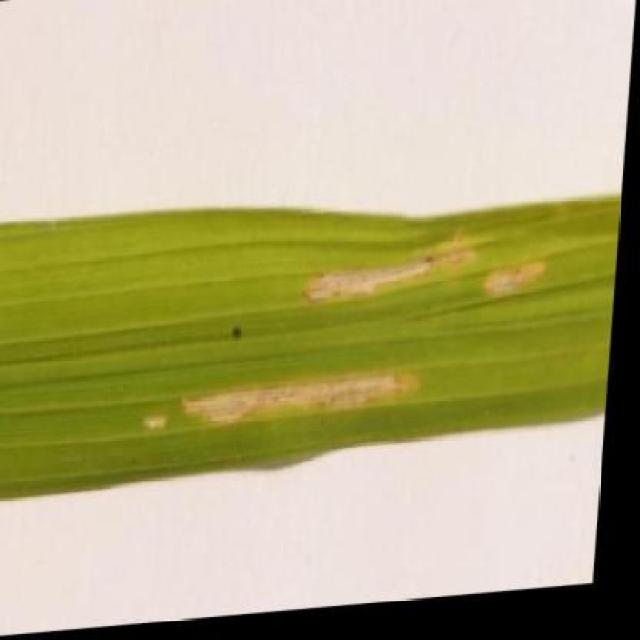Brown_Spot: (0, 173, 628, 509)
